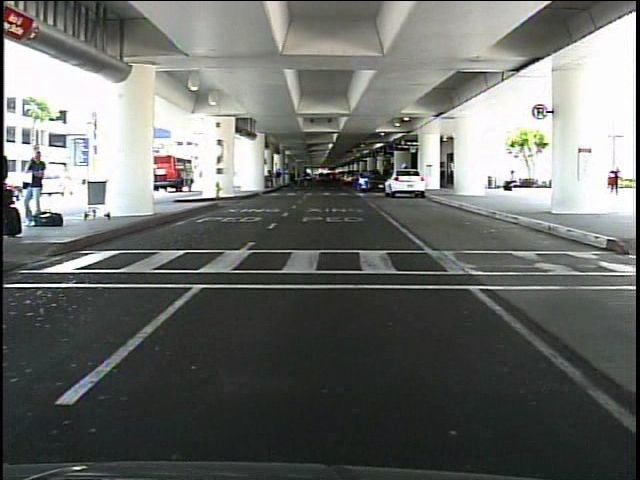person: (24, 146, 50, 230), (601, 162, 624, 201), (499, 165, 521, 197)
